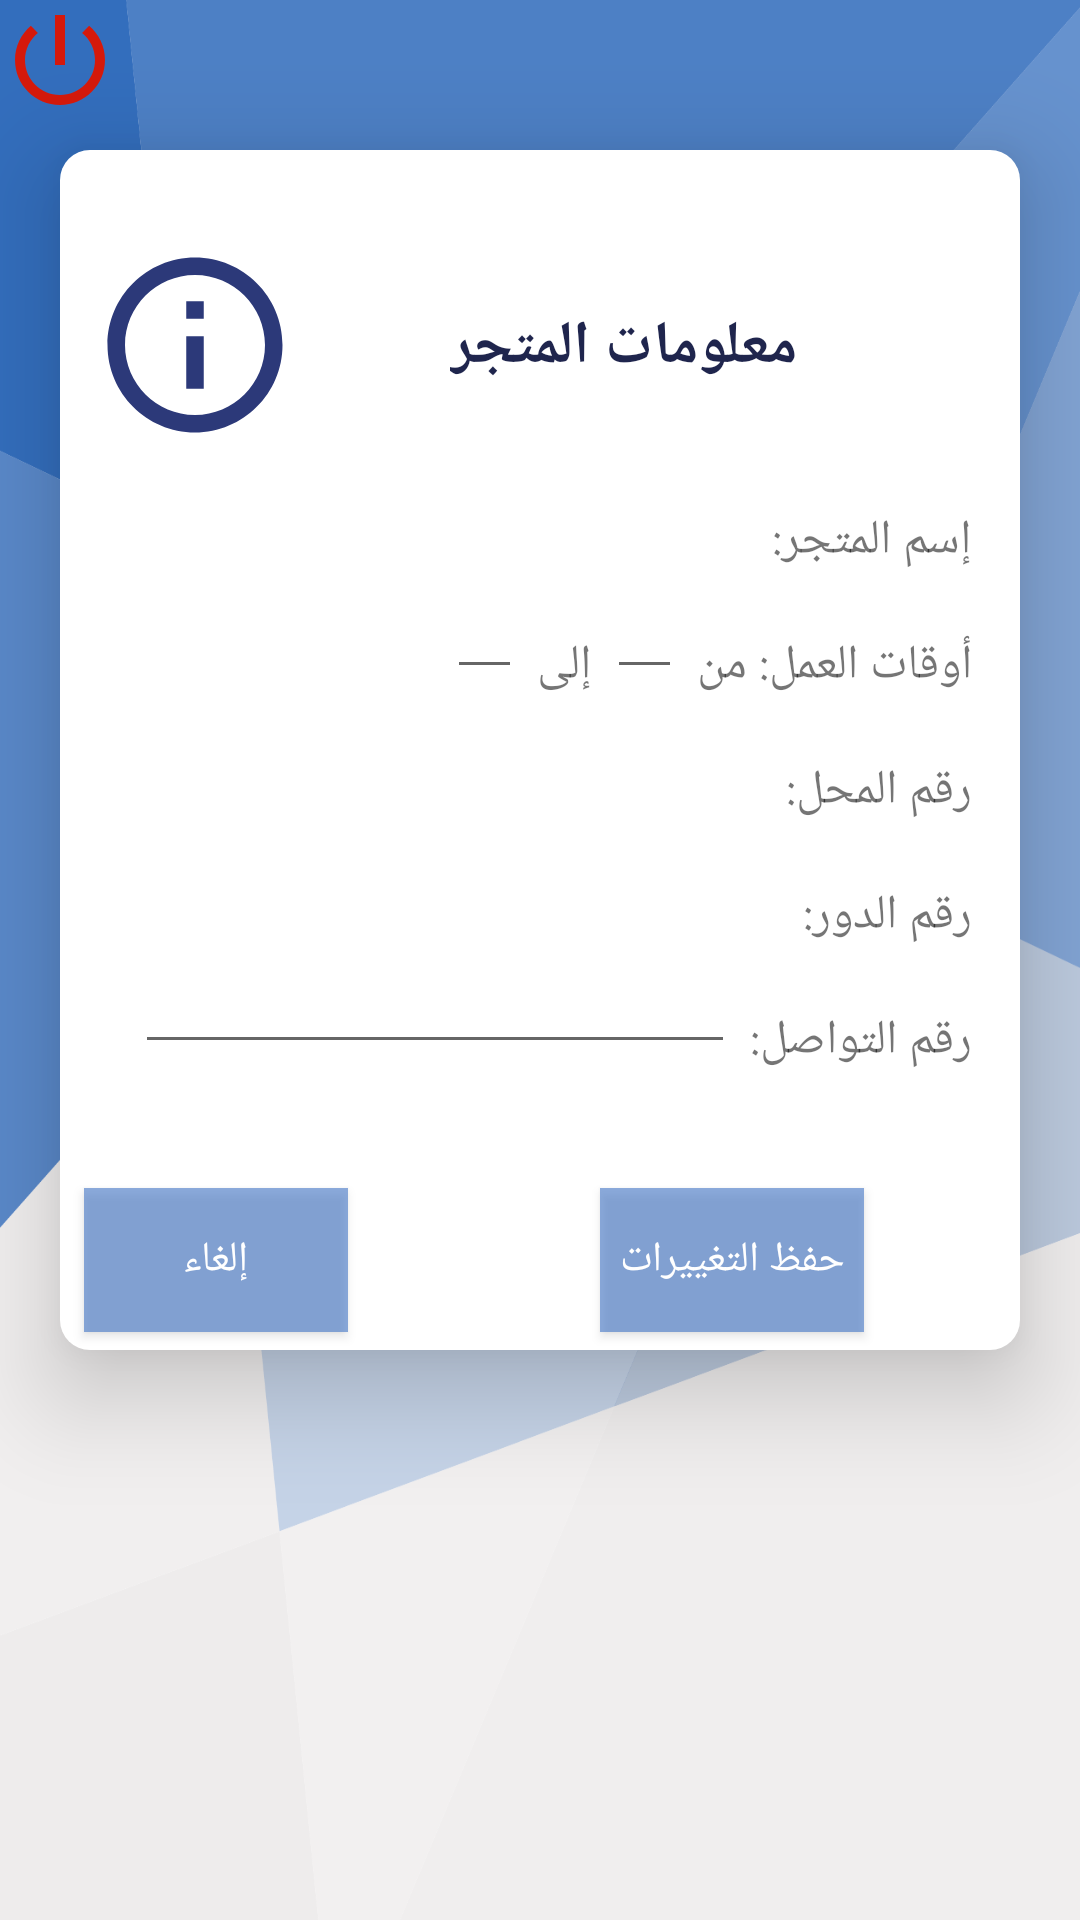

Where to tap for icons on this 1080x1920 app screen, as (x,y):
info: (195,345)
power: (60,60)
